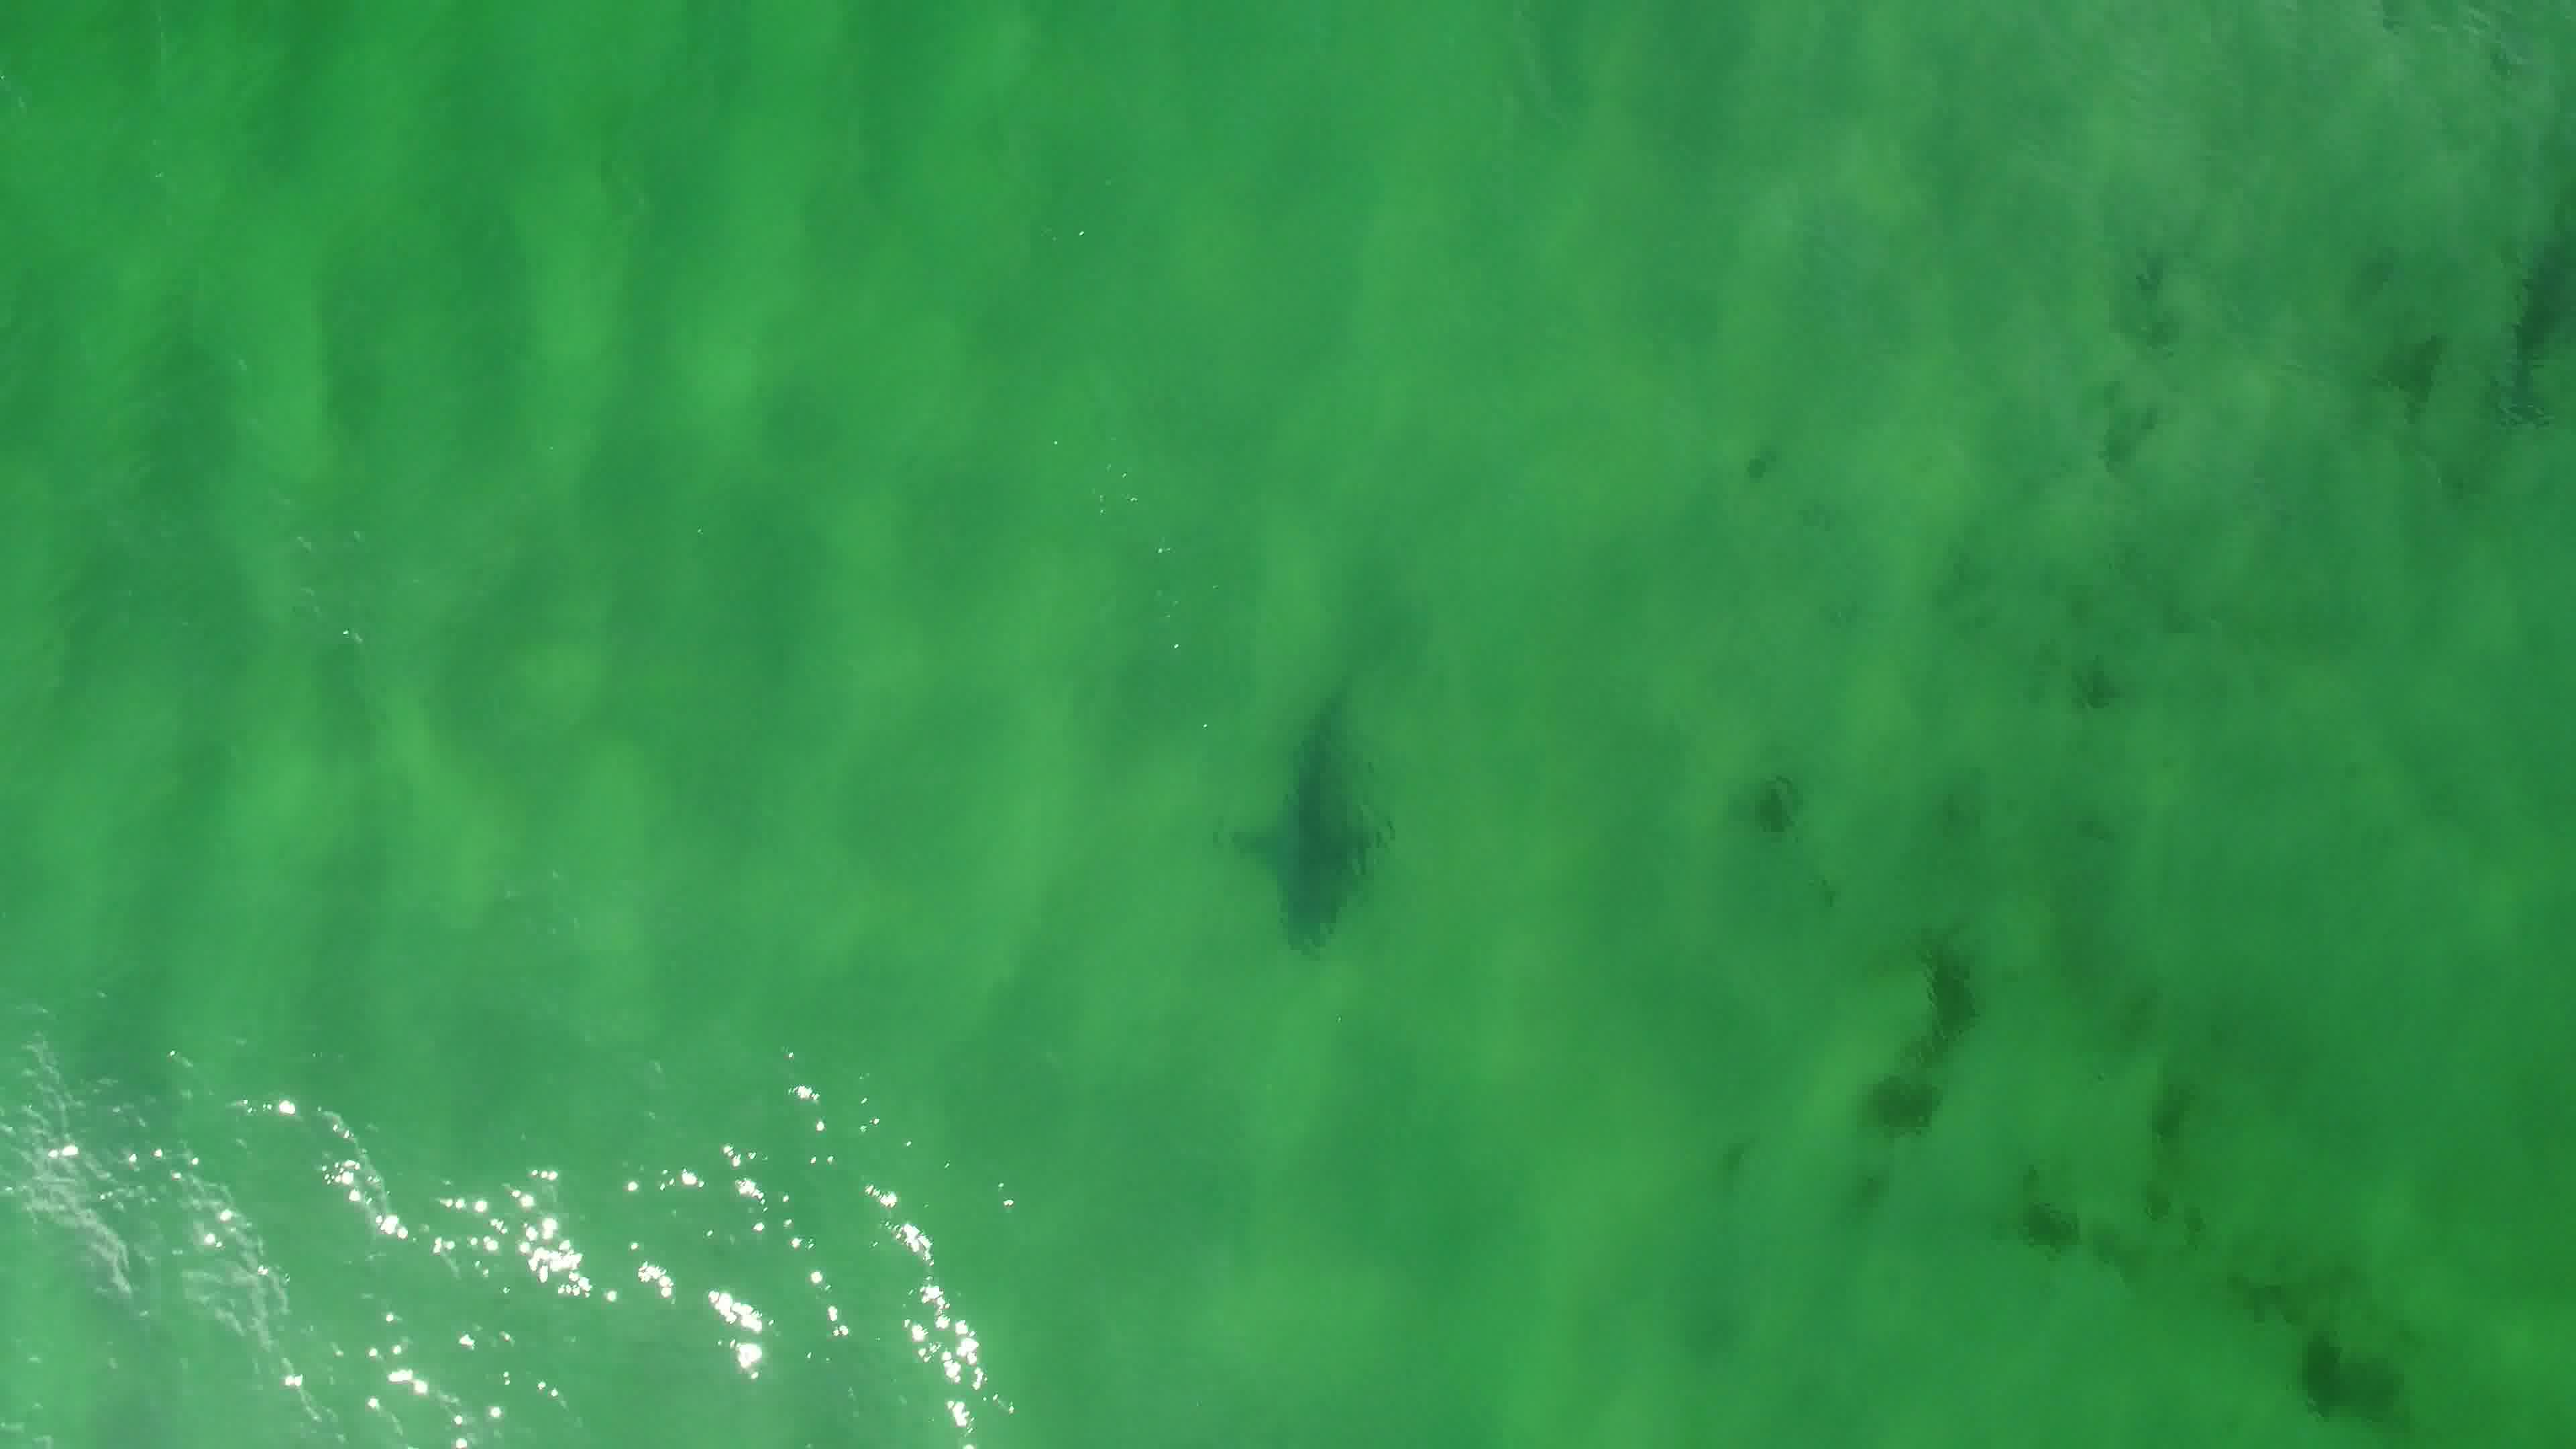shark: (1226, 671, 1401, 966)
